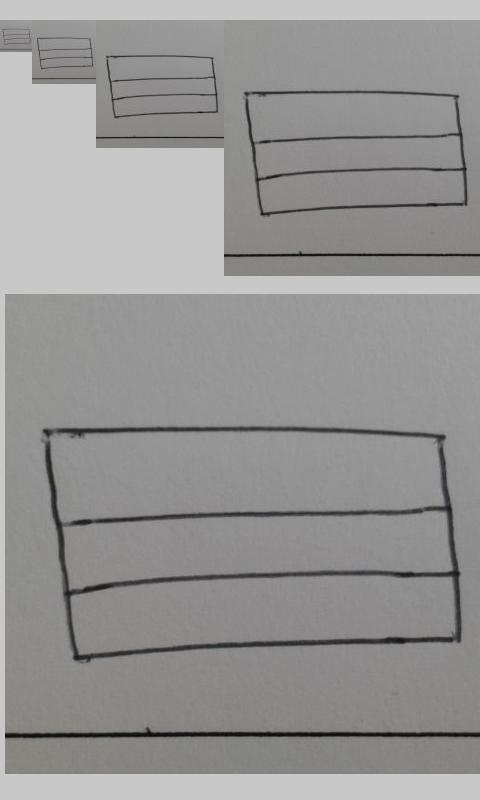list_view: (42, 425, 463, 666), (242, 89, 469, 216), (105, 55, 219, 119), (36, 36, 94, 70), (2, 28, 32, 46)
